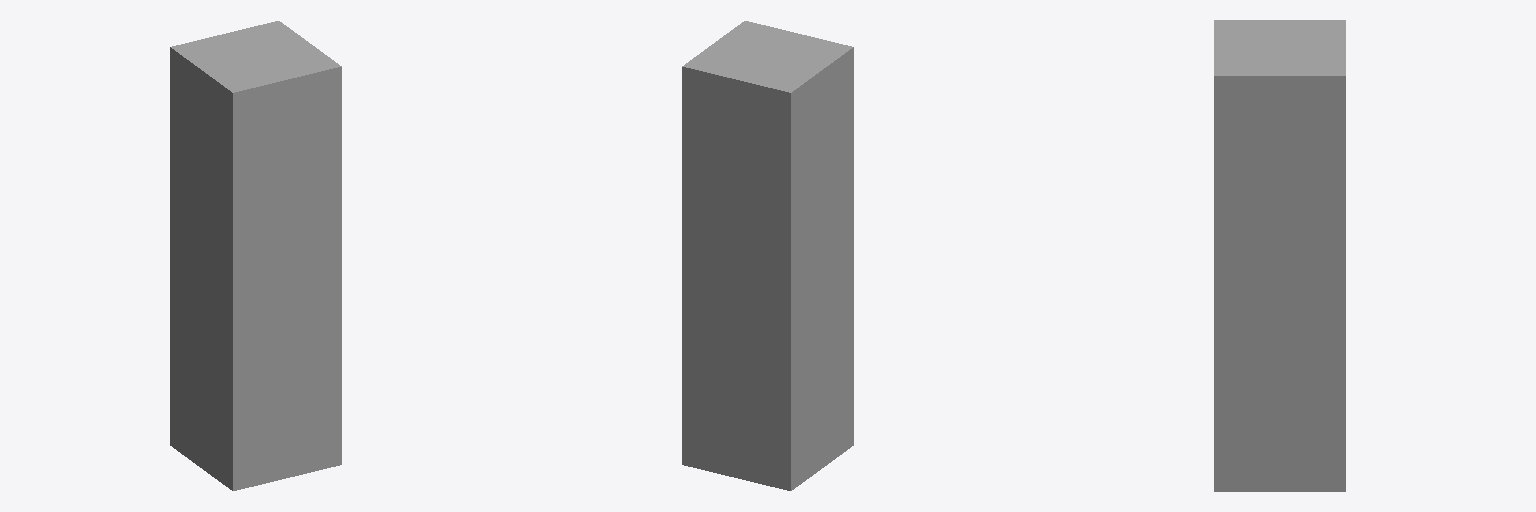
The robot description file, URDF, robot "magnet":
<?xml version="1.0"?>
<!-- Generated by make_models.py; extents match cuTAMP's ENTITIES cuboid. -->
<robot name="magnet">
  <link name="base_link">
    <inertial>
      <origin xyz="0 0 0"/>
      <mass value="0.02"/>
      <inertia ixx="2.2083333333333335e-06" ixy="0" ixz="0" iyy="2.2083333333333335e-06" iyz="0" izz="3.333333333333334e-07"/>
    </inertial>
    <visual>
      <origin xyz="0 0 0"/>
      <geometry><box size="0.01 0.01 0.035"/></geometry>
      <material name="grey"><color rgba="0.7 0.7 0.7 1"/></material>
    </visual>
    <collision>
      <origin xyz="0 0 0"/>
      <geometry><box size="0.01 0.01 0.035"/></geometry>
    </collision>
  </link>
</robot>

--- Render facts (derived) ---
The picture shows the robot from 3 angles, left to right: view 1: azimuth 30°, elevation 25°; view 2: azimuth 150°, elevation 25°; view 3: azimuth 270°, elevation 25°; orthographic projection.
Model magnet with 1 links and 0 joints (none), rooted at base_link, posed all joints at 0.
Visible links, largest first — view 1: base_link; view 2: base_link; view 3: base_link.
Boxes of the visible links, x1,y1,x2,y2 form: base_link: (170,21,341,490); base_link: (682,21,853,490); base_link: (1214,20,1345,491).
Size in the robot's own frame: 0.01 by 0.01 by 0.035 metres.
Geometry: primitives only (box / cylinder / sphere), no mesh files.
